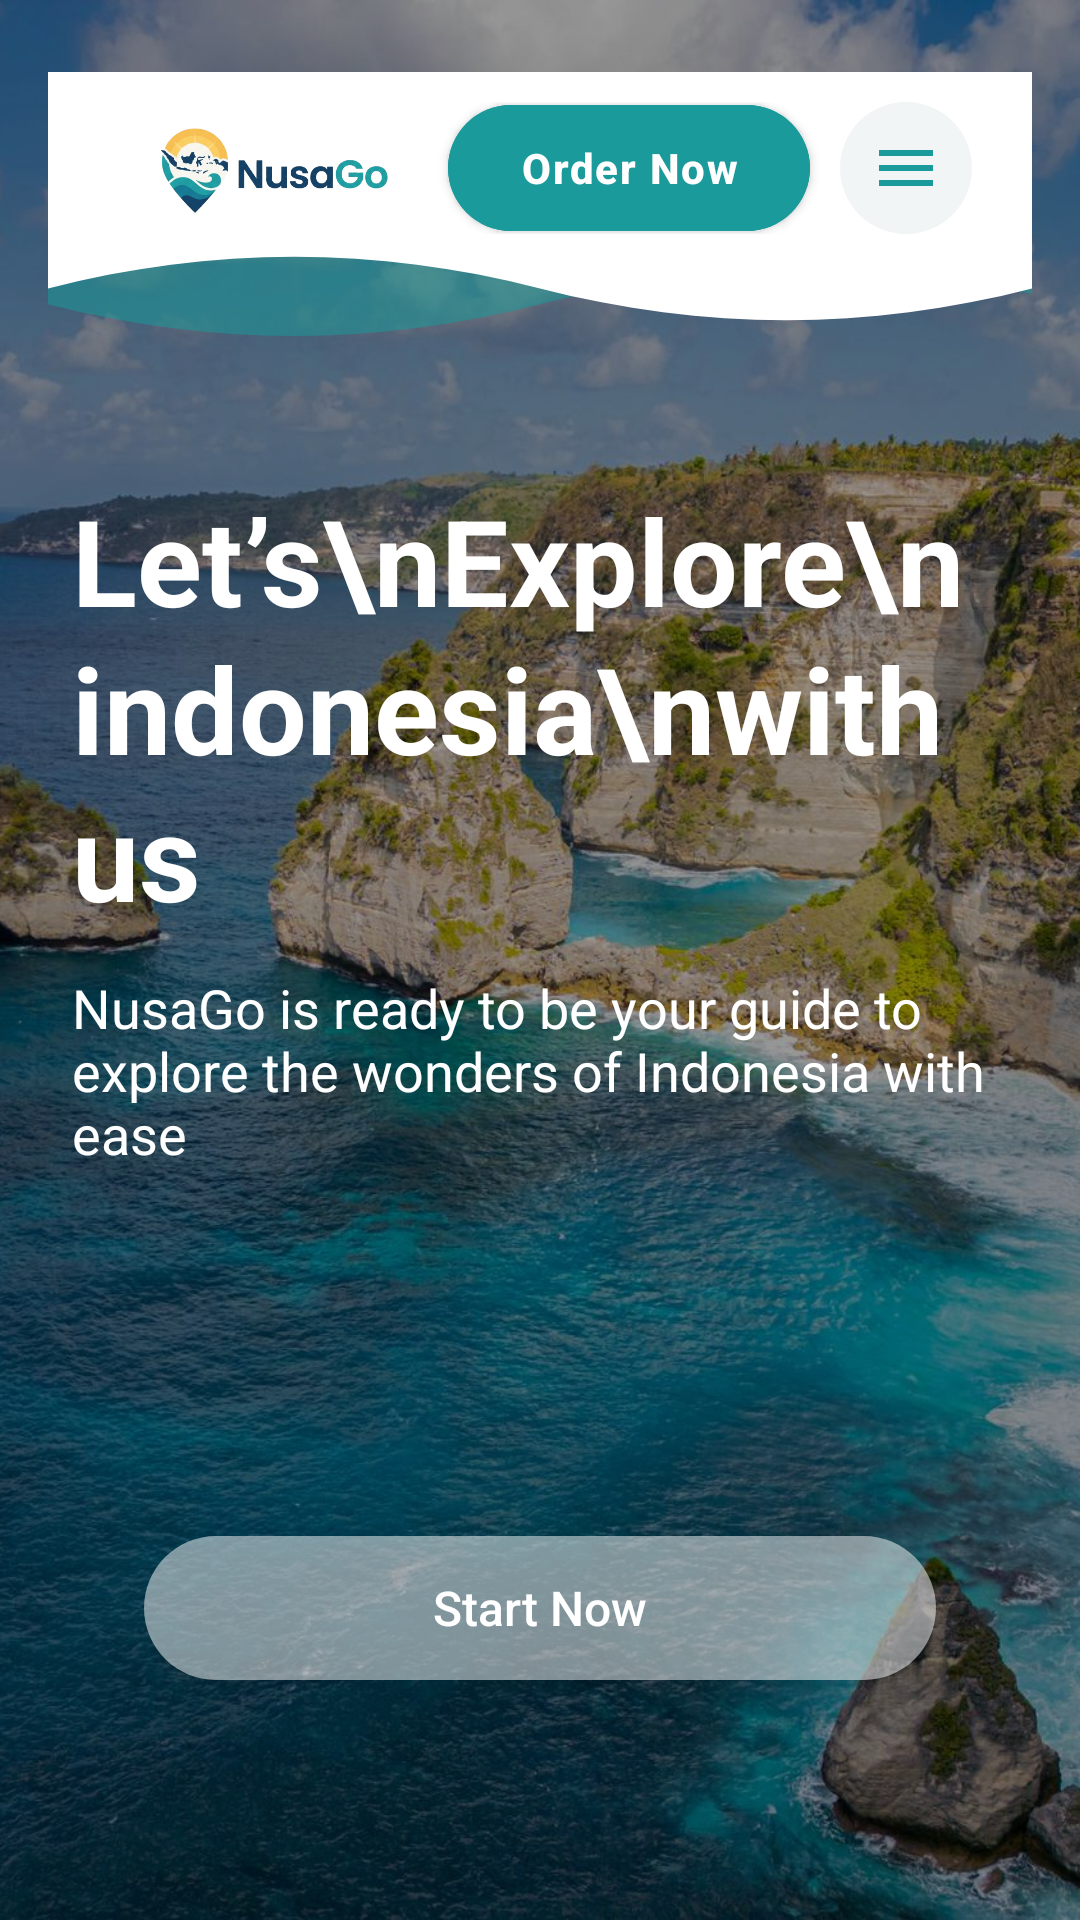

Named icons in this screenshot (1080w x 1920h) and their bounding boxes, {"left": x1, "top": y1, "right": x2, "bottom": y2}:
Open menu: {"left": 879, "top": 150, "right": 933, "bottom": 186}
